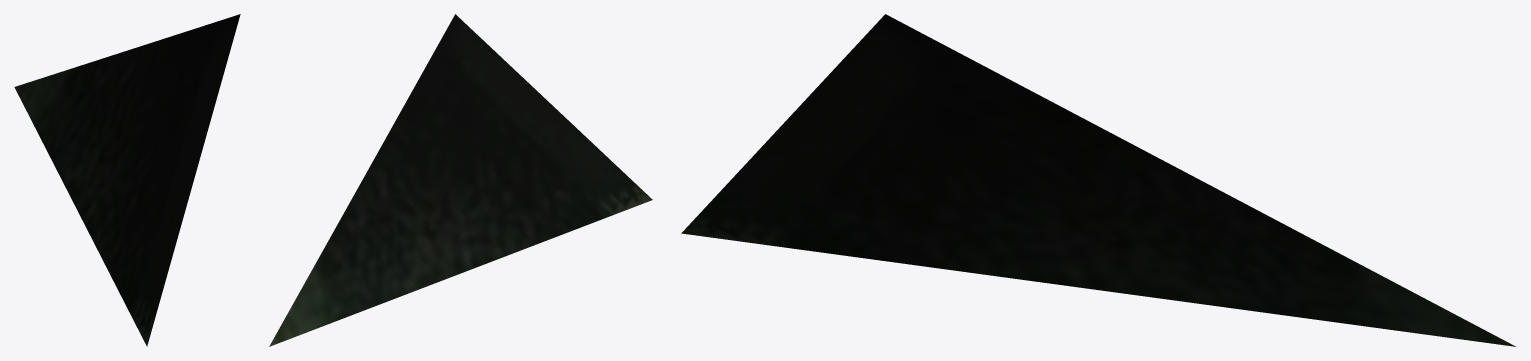
3 renders of one model, left to right at view 1: azimuth 30°, elevation 25°; view 2: azimuth 150°, elevation 25°; view 3: azimuth 270°, elevation 25°, orthographic. The views are drawn at different scales.
Bounding box in the file's own units: 0.8443 × 1.15 × 2.63.
Materials: 1 (1 with a texture image).
